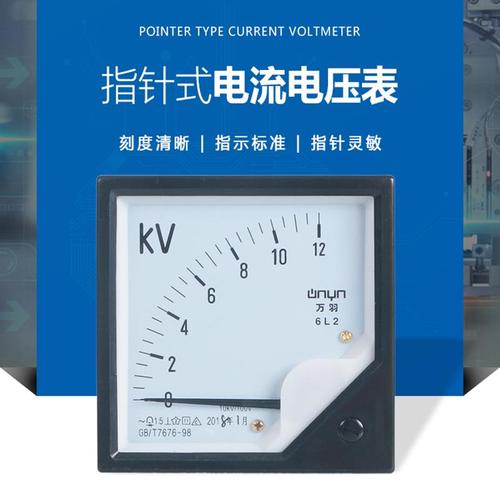pointer: (114, 195, 371, 452)
